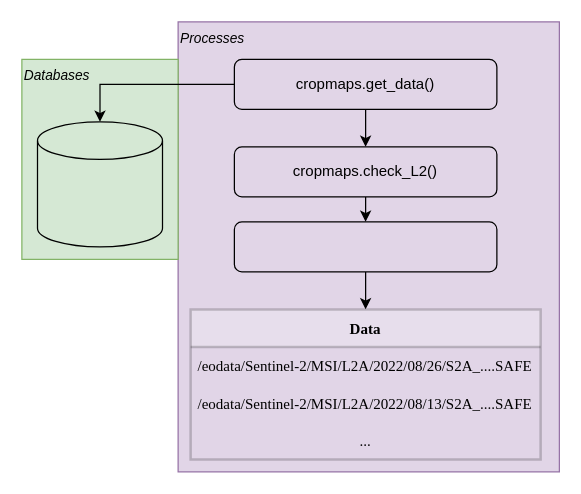
This 581x494 diagram has some shape labels left out. Each missing label, with the centre of its shape:
cropmaps.eodata_path_creator(): point 365,246
ESA-SciHub: point 99,184
